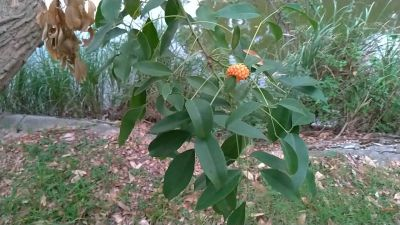eggs: (227, 62, 250, 82)
